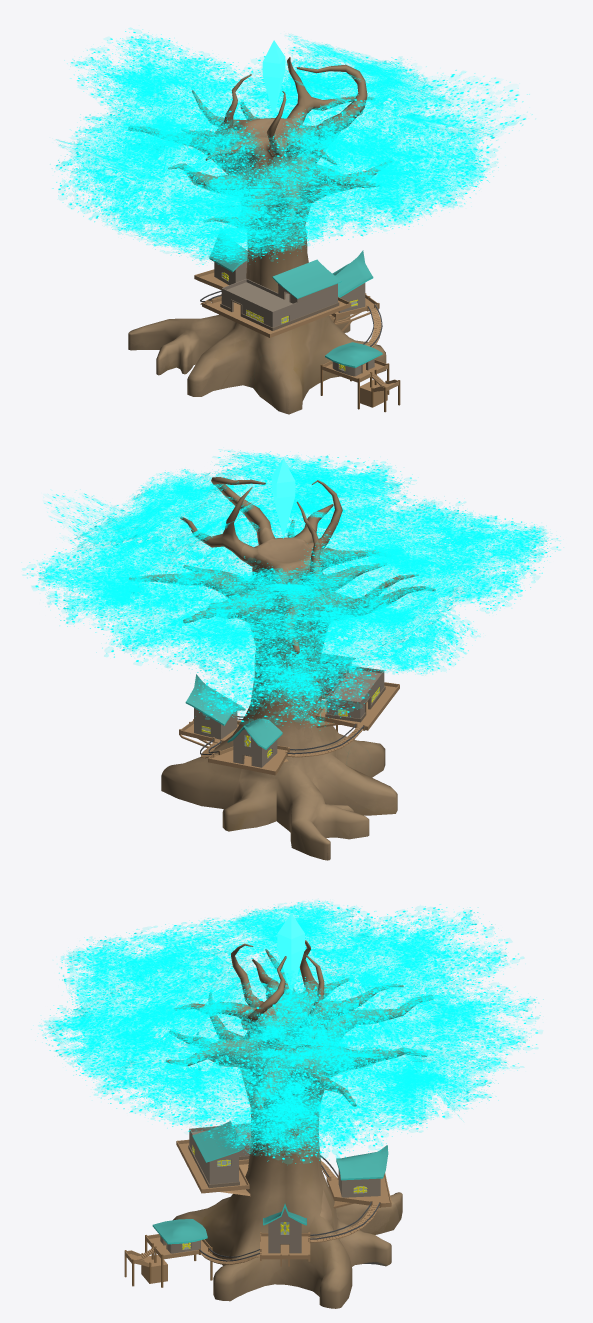
The model's file is elf_tree_village.glb.
3 views of the same model, one above another, from view 1: azimuth 30°, elevation 25°; view 2: azimuth 150°, elevation 25°; view 3: azimuth 270°, elevation 25° (orthographic). The views are drawn at different scales.
Visible parts, largest first — view 1: Tree of life leaves, Tree of life, Elf village; view 2: Tree of life leaves, Tree of life, Elf village; view 3: Tree of life leaves, Tree of life, Elf village.
Part boxes in pixels (box(x1,y1,x2,y2)): Tree of life leaves: box(50, 28, 532, 264); Tree of life: box(128, 40, 386, 414); Elf village: box(194, 237, 400, 412); Tree of life leaves: box(22, 449, 563, 727); Tree of life: box(129, 458, 435, 860); Elf village: box(179, 654, 399, 775); Tree of life leaves: box(38, 900, 543, 1163); Tree of life: box(166, 913, 432, 1308); Elf village: box(124, 1121, 391, 1287).
Bounding box in the file's own units: 4.06 × 2.67 × 3.94.
Materials: 4 (3 with a texture image).
